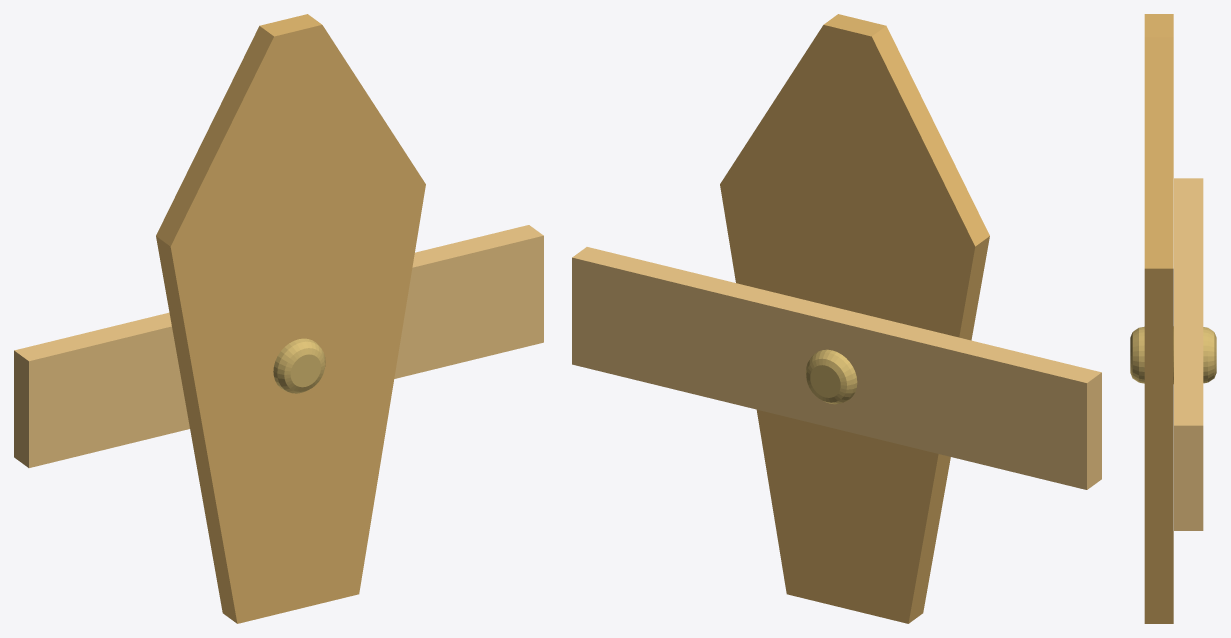
The model's file is fenceSpring.glb.
3 views of the same model, side by side, from view 1: azimuth 30°, elevation 25°; view 2: azimuth 150°, elevation 25°; view 3: azimuth 270°, elevation 25° (orthographic).
Visible parts, largest first — view 1: fenceBar.009, Cylinder; view 2: fenceBar.009, Cylinder; view 3: fenceBar.009, Cylinder.
Boxes of the visible parts, x1,y1,x2,y2 form: fenceBar.009: (14,14,543,623); Cylinder: (273,338,325,393); fenceBar.009: (572,14,1101,623); Cylinder: (805,349,857,404); fenceBar.009: (1144,14,1203,623); Cylinder: (1130,326,1216,383).
Bounding box in the file's own units: 1.01 × 1.08 × 0.149.
